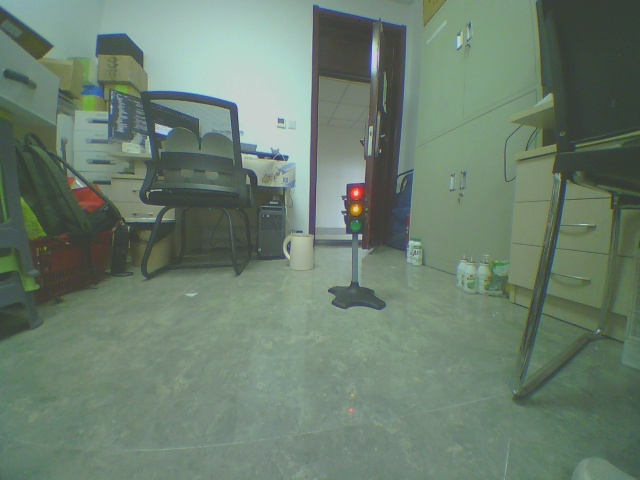Red_Yellow: (340, 177, 370, 242)
